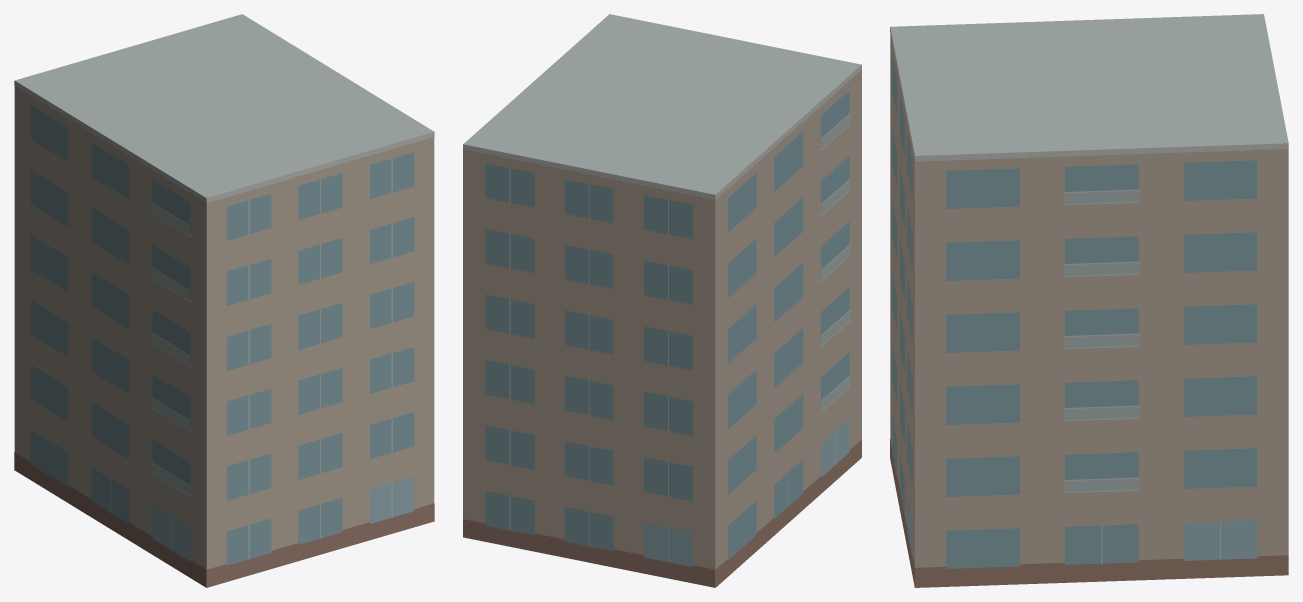
Rendered from survey-upis-32755195.glb.
3 views of the same model, side by side, from view 1: azimuth 30°, elevation 25°; view 2: azimuth 150°, elevation 25°; view 3: azimuth 270°, elevation 25° (orthographic). The views are drawn at different scales.
Parts seen in each view (by area): view 1: survey-upis-32755195.tmp; view 2: survey-upis-32755195.tmp; view 3: survey-upis-32755195.tmp.
Part boxes in pixels (x1,y1,x2,y2): survey-upis-32755195.tmp: (14,14,434,587); survey-upis-32755195.tmp: (463,14,861,587); survey-upis-32755195.tmp: (890,14,1288,587).
Bounding box in the file's own units: 13.12 × 18.6 × 15.56.
